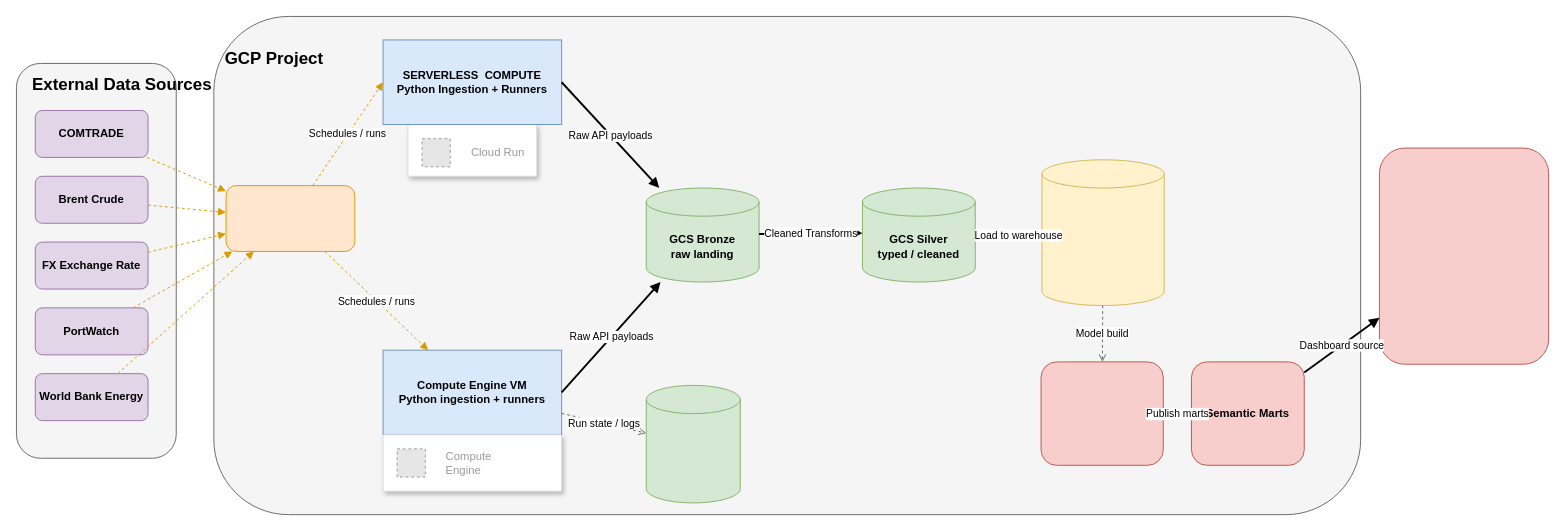
Some shapes in this 1565 by 531 pixel diagram are drawn without their labels. Grey dashed boxes stand in for pictures. Here are the shapes that lost their labels. From the top down, the centre of each, then its label:
At (x=290, y=218): "Bruin Orchestrator".
At (x=1102, y=232): "BigQuery Warehouse".
At (x=1464, y=255): "Looker Studio Dashboards".
At (x=1101, y=413): "dbt Staging + Marts".
At (x=692, y=443): "Persistent Disk [data • logs • checkpoints • Postgres_DB]".
